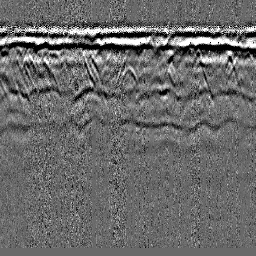cavity: (120, 60, 138, 87)
